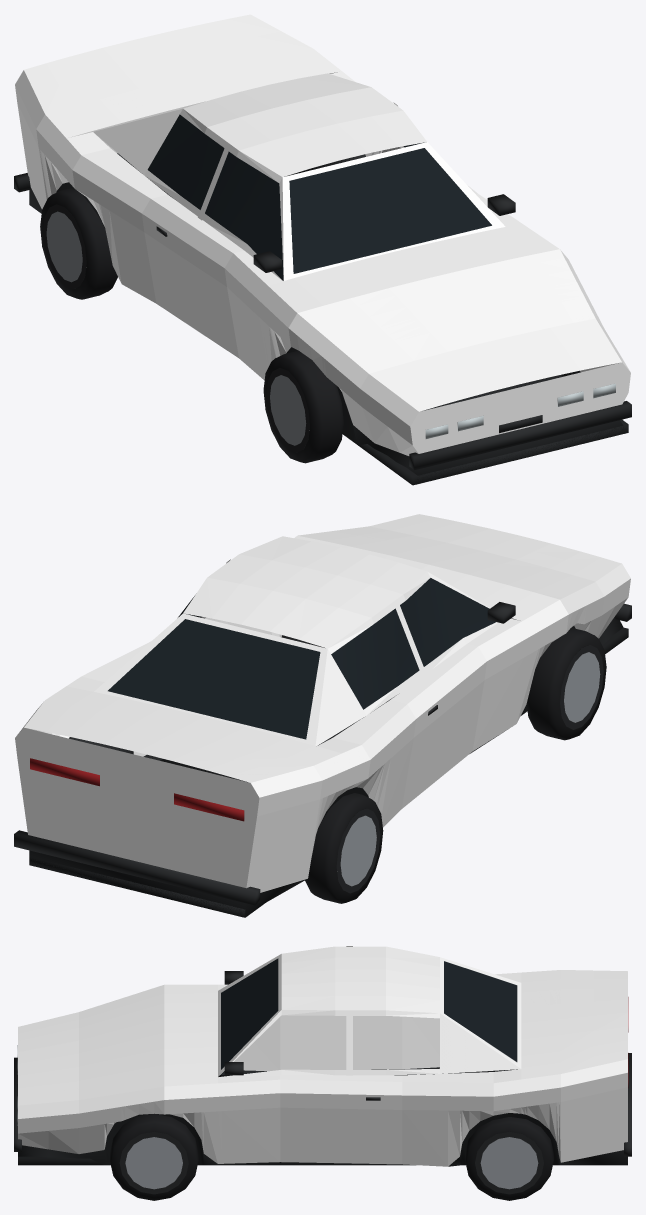
The model's file is feldhaus_chale.glb.
3 renders of one model, top to bottom at view 1: azimuth 30°, elevation 25°; view 2: azimuth 150°, elevation 25°; view 3: azimuth 270°, elevation 25°, orthographic. The views are drawn at different scales.
Parts seen in each view (by area): view 1: Body_Paint, Body_Details, Mount_FrontLeft_Wheel_Details, Mount_RearLeft_Wheel_Details; view 2: Body_Paint, Body_Details, Mount_FrontLeft_Wheel_Details, Mount_RearLeft_Wheel_Details; view 3: Body_Paint, Body_Details, Mount_FrontRight_Wheel_Details, Mount_RearRight_Wheel_Details.
Part boxes in pixels (x1,y1,x2,y2): Body_Paint: [15, 14, 630, 455]; Body_Details: [14, 114, 631, 485]; Mount_FrontLeft_Wheel_Details: [263, 350, 343, 463]; Mount_RearLeft_Wheel_Details: [40, 188, 117, 299]; Body_Paint: [15, 514, 630, 892]; Body_Details: [14, 578, 631, 917]; Mount_FrontLeft_Wheel_Details: [526, 627, 606, 740]; Mount_RearLeft_Wheel_Details: [305, 793, 383, 903]; Body_Paint: [18, 946, 627, 1166]; Body_Details: [14, 958, 631, 1166]; Mount_FrontRight_Wheel_Details: [110, 1113, 198, 1200]; Mount_RearRight_Wheel_Details: [465, 1117, 553, 1200].
Bounding box in the file's own units: 1.85 × 1.27 × 4.18.
Materials: 2 (1 with a texture image).
